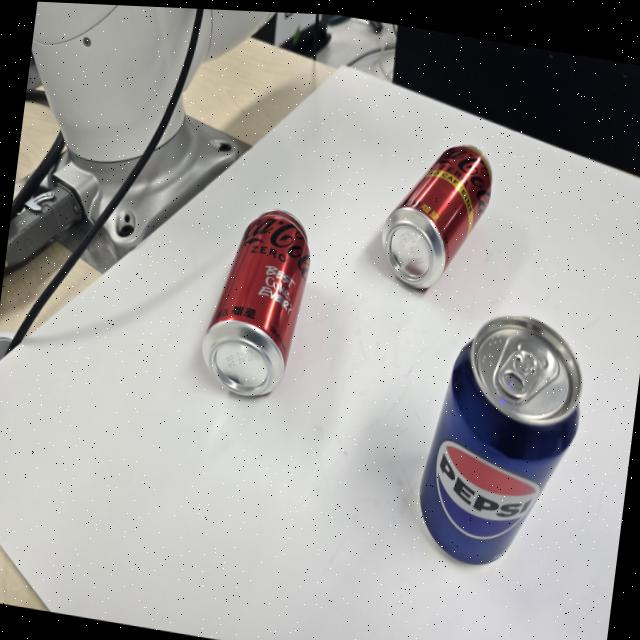can_coke_decaf: (378, 143, 494, 293)
can_coke_zero: (199, 209, 311, 398)
can_pepsi: (419, 311, 580, 564)
